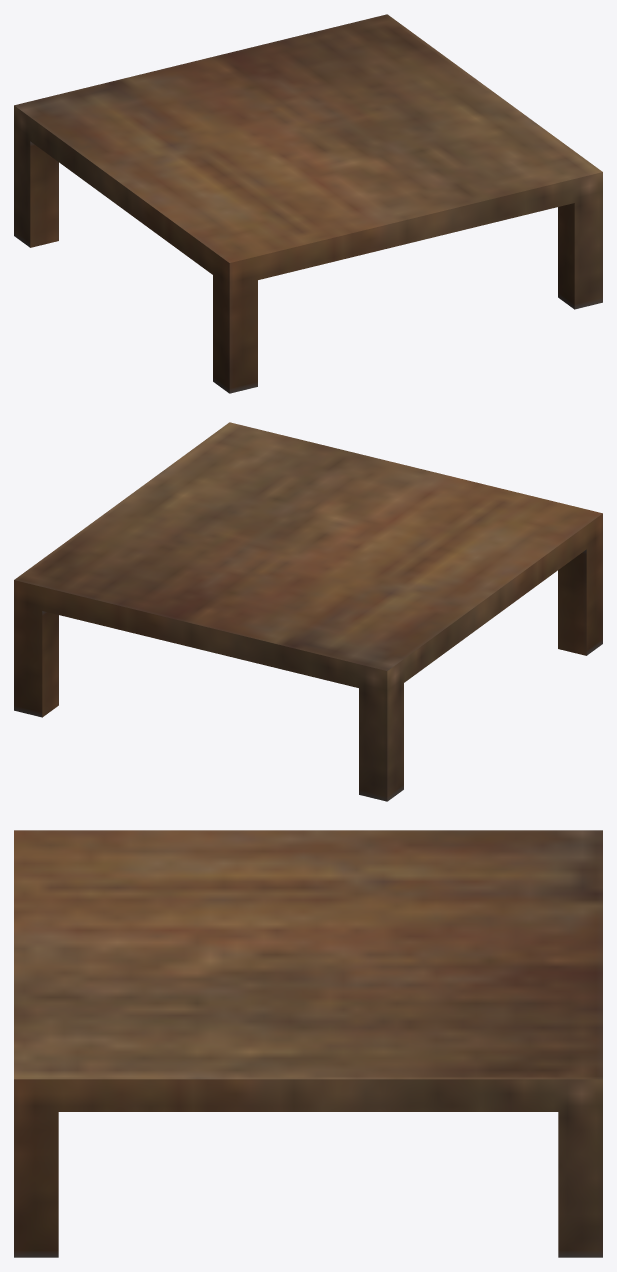
The model's file is MiniBR_Table003.fbx.
3 views of the same model, one above another, from view 1: azimuth 30°, elevation 25°; view 2: azimuth 150°, elevation 25°; view 3: azimuth 270°, elevation 25° (orthographic). The views are drawn at different scales.
Visible parts, largest first — view 1: MiniBR_Table003; view 2: MiniBR_Table003; view 3: MiniBR_Table003.
Boxes of the visible parts, left/top/right/bottom form: MiniBR_Table003: left=14, top=14, right=602, bottom=393; MiniBR_Table003: left=14, top=422, right=602, bottom=801; MiniBR_Table003: left=14, top=830, right=602, bottom=1257.
Bounding box in the file's own units: 150 × 150 × 50.23.
Materials: 1 (1 with a texture image).
